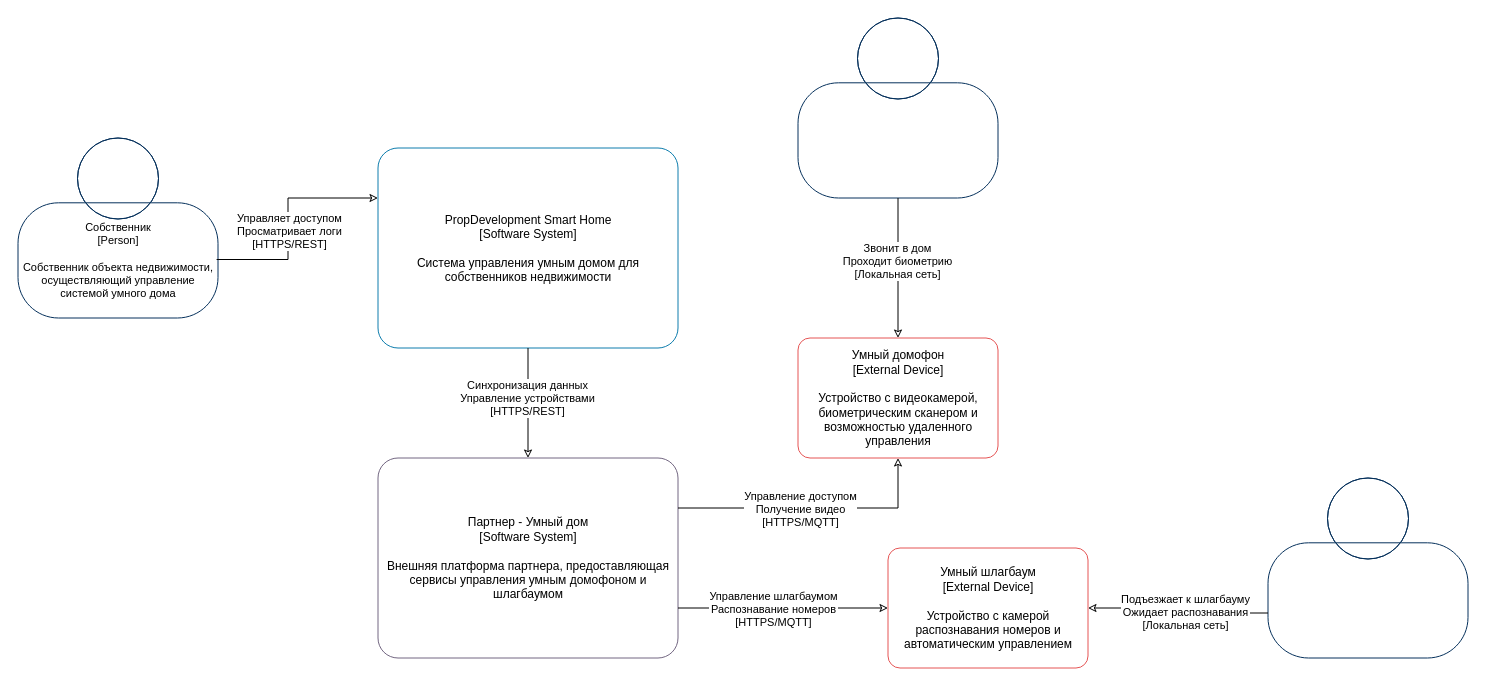
Image size: 1485x685. Some labels were removed from this diagram. Here are the shapes that lost their labels. From the top down, the centre of each, then its label:
At (897,107): "Гость [Person] Посетитель, который хочет попасть в дом через домофон".
At (1367,567): "Водитель [Person] Водитель автомобиля, который хочет въехать на территорию".
